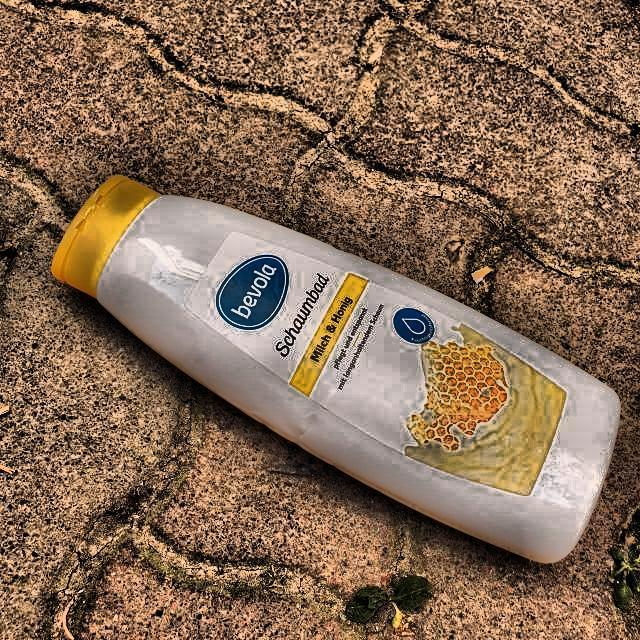plastic: (50, 176, 621, 567)
